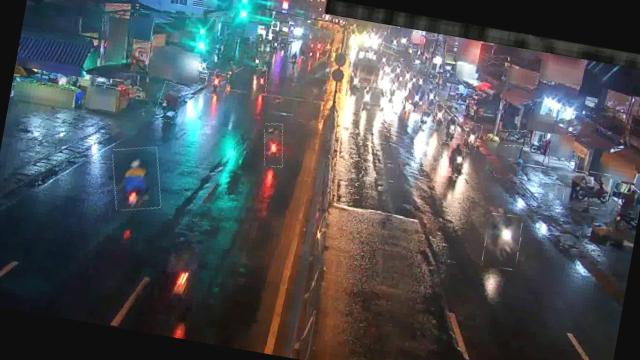Bike: (106, 142, 167, 214), (480, 211, 524, 270), (562, 168, 612, 210), (156, 81, 191, 124), (260, 122, 288, 168), (436, 140, 468, 178), (498, 127, 530, 149), (203, 71, 229, 96), (462, 122, 482, 153), (252, 66, 269, 96), (432, 102, 446, 129), (418, 105, 433, 130), (424, 84, 439, 108), (444, 117, 458, 141)
Car: (358, 84, 388, 112)
